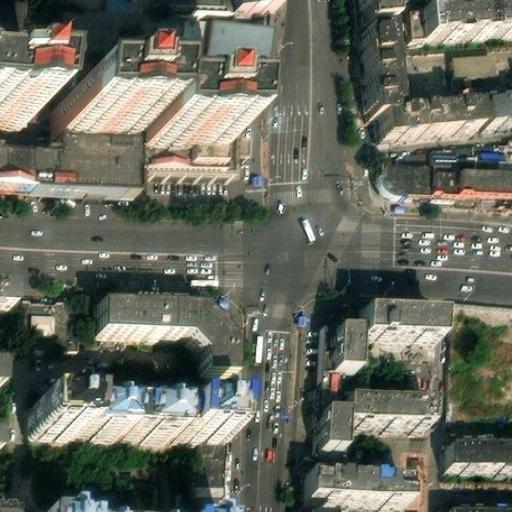building: (98, 299, 227, 371), (59, 121, 142, 183), (65, 75, 150, 123), (374, 99, 474, 134), (149, 95, 229, 137), (305, 466, 406, 499), (356, 21, 390, 111), (83, 403, 175, 434), (189, 434, 225, 512), (207, 15, 275, 53), (341, 393, 431, 421), (18, 302, 70, 349), (397, 56, 446, 104), (362, 302, 442, 331), (175, 397, 227, 434), (36, 389, 83, 429), (52, 491, 146, 511), (381, 157, 431, 188), (448, 436, 512, 460), (0, 71, 28, 120), (332, 321, 357, 366), (454, 47, 498, 72), (314, 406, 341, 446), (471, 97, 512, 123), (436, 162, 460, 188), (444, 505, 512, 512)
